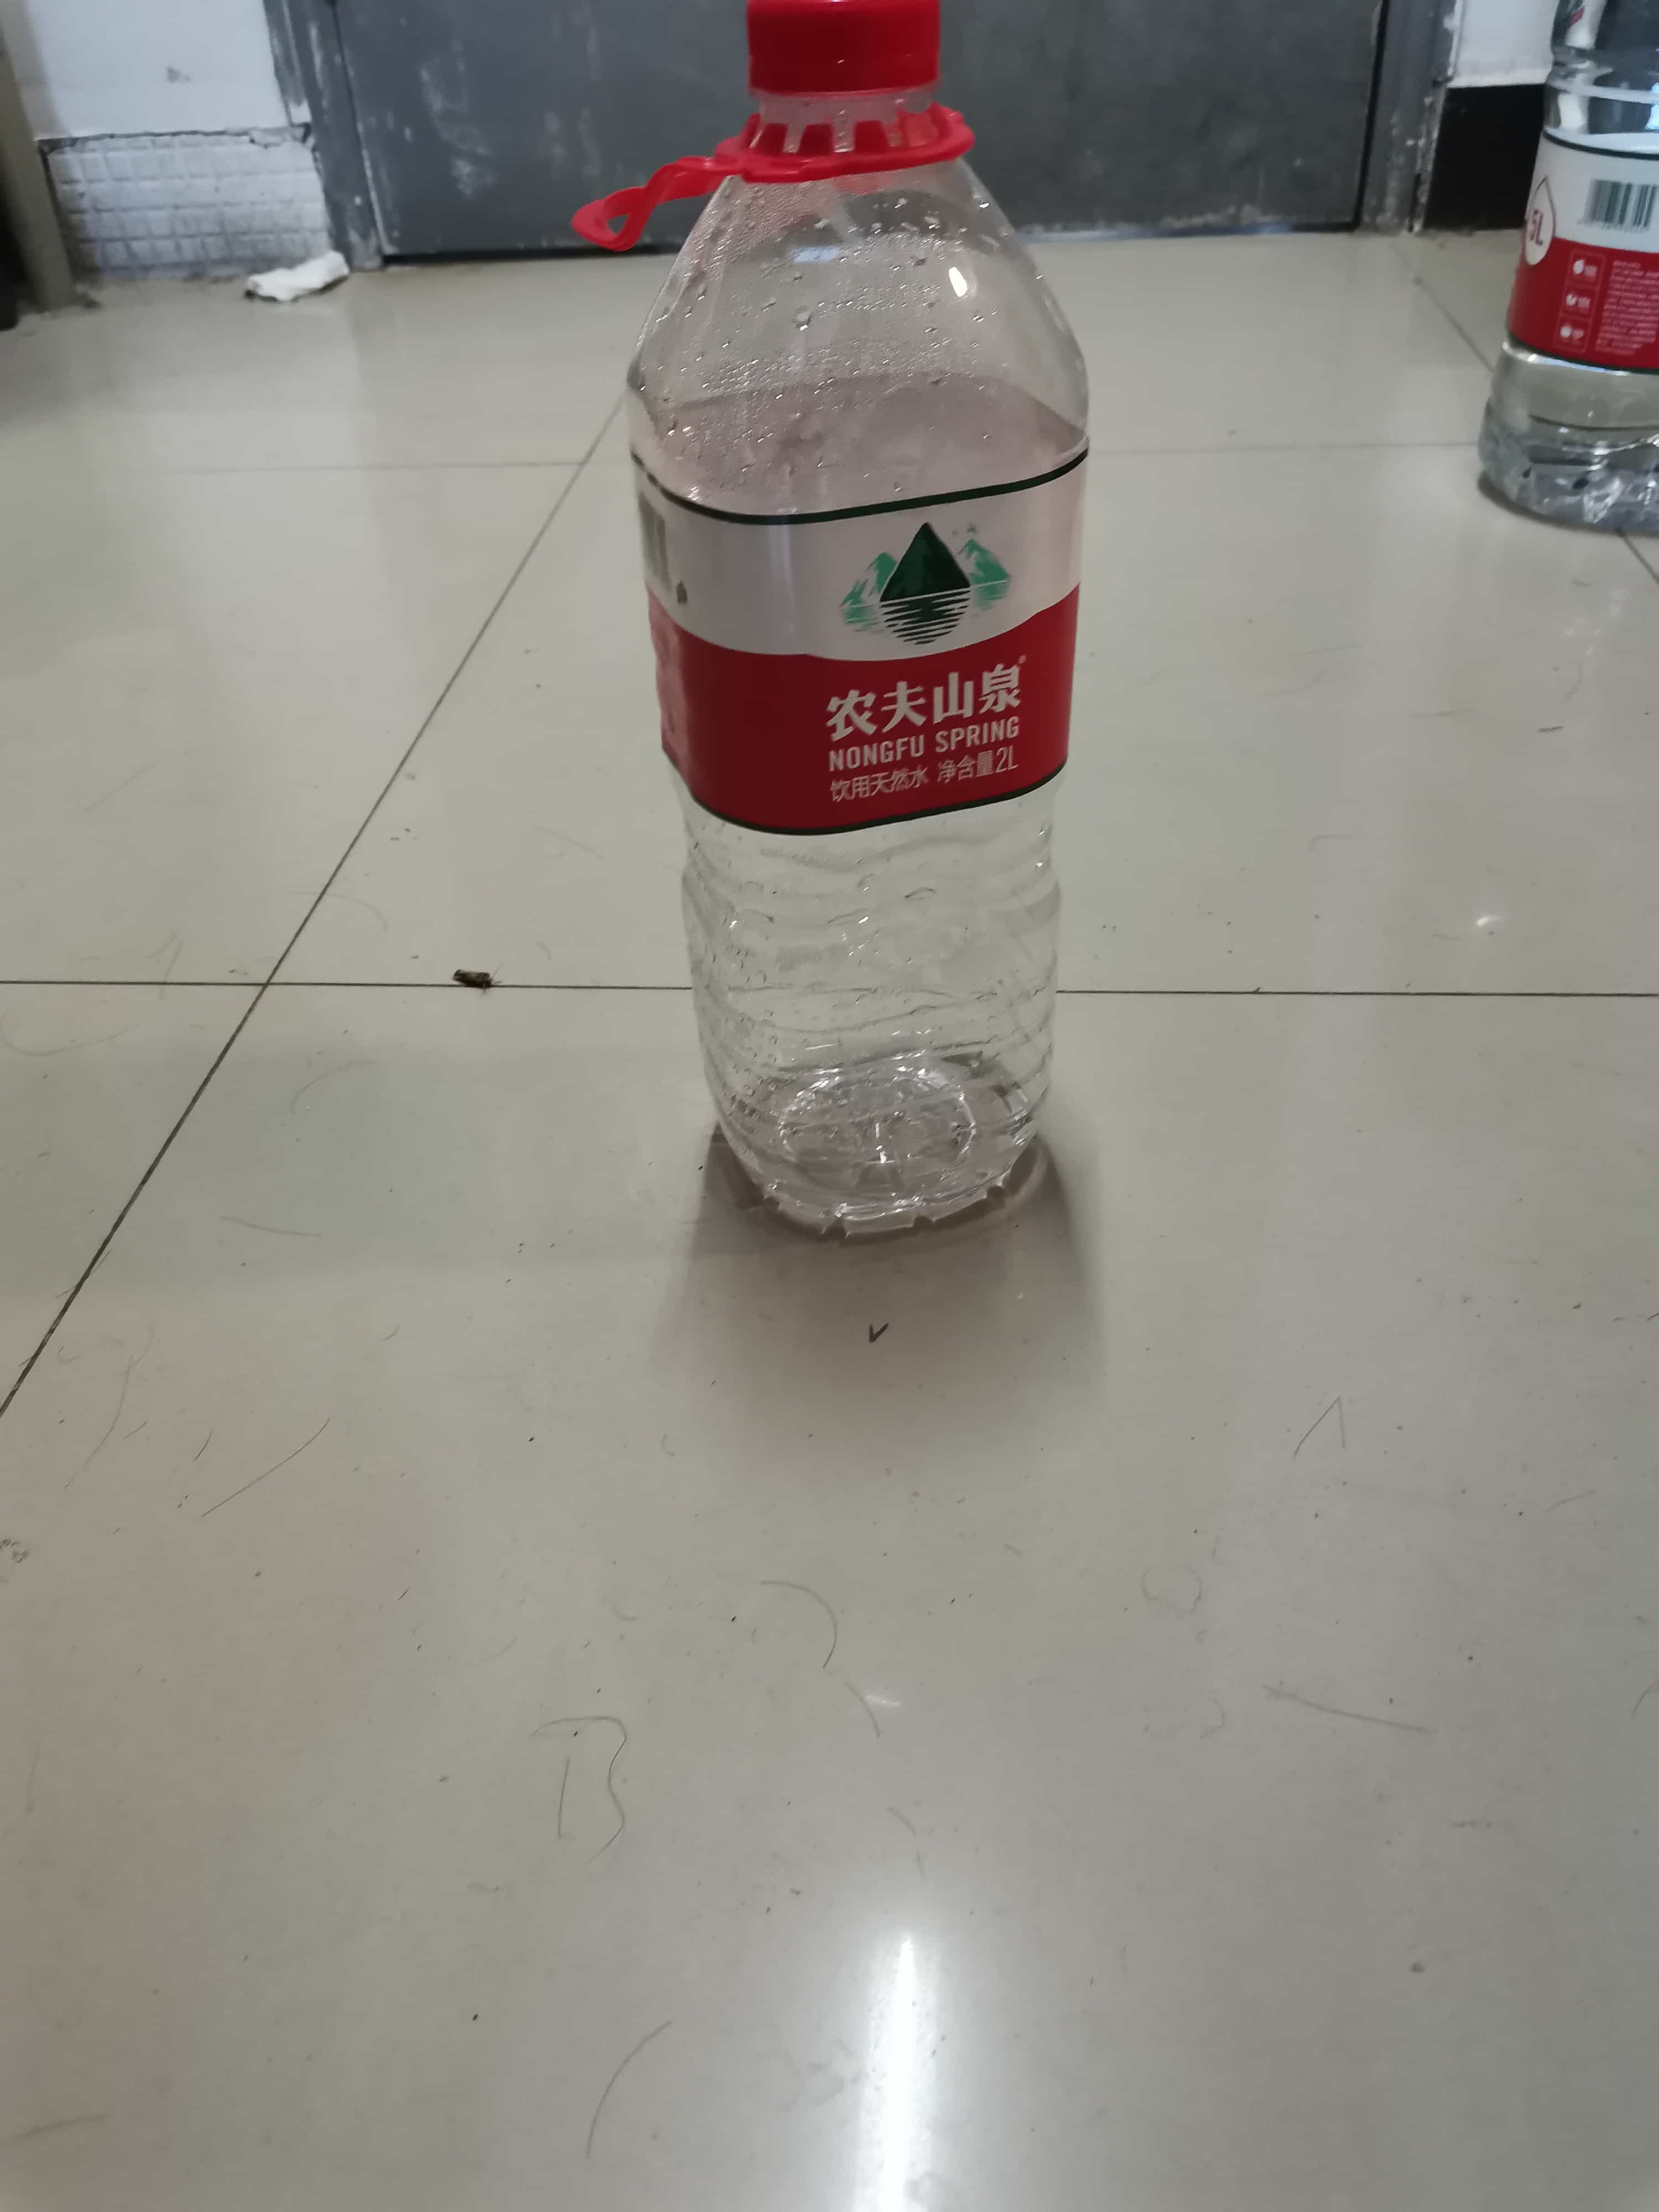plastic_bottle: (559, 24, 1112, 1266)
